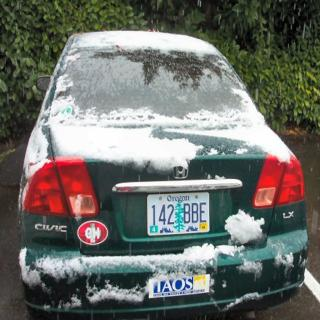license: (147, 194, 211, 236)
